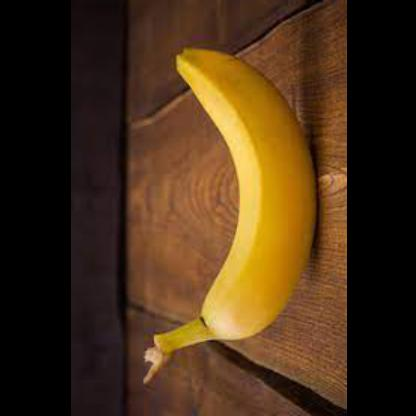banana: (142, 46, 314, 382)
